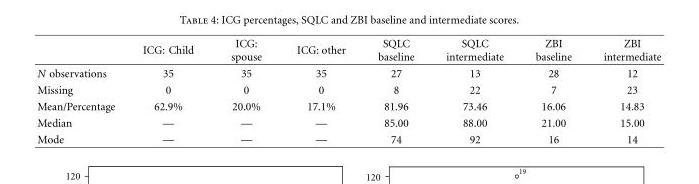table: (36, 37, 660, 144)
table column: (36, 37, 128, 144), (429, 37, 518, 144), (128, 37, 211, 144), (278, 37, 361, 144), (586, 37, 660, 144), (361, 37, 429, 144), (518, 37, 586, 144), (211, 37, 278, 144)
table column header: (36, 37, 660, 64)
table row: (36, 37, 660, 64), (36, 64, 660, 81), (36, 97, 660, 114), (36, 81, 660, 97), (36, 114, 660, 130), (36, 130, 660, 144)
